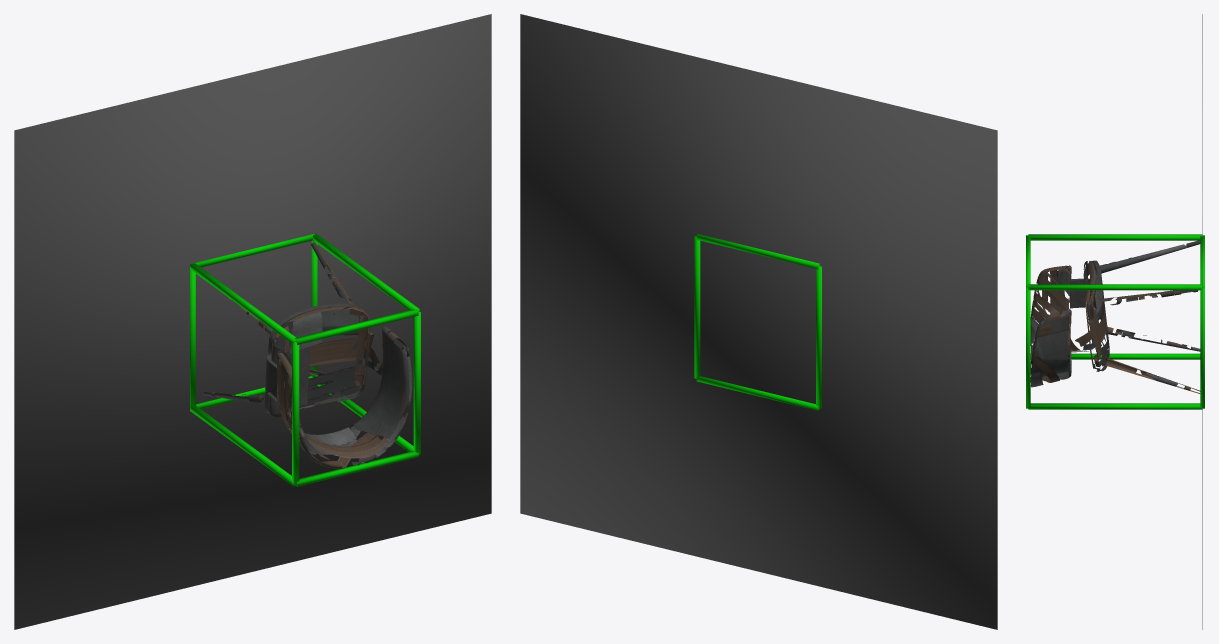
The picture shows the model from 3 angles, left to right: view 1: azimuth 30°, elevation 25°; view 2: azimuth 150°, elevation 25°; view 3: azimuth 270°, elevation 25°; orthographic projection. The views are drawn at different scales.
Size of the model in its own units: 2 by 2 by 0.7715.
